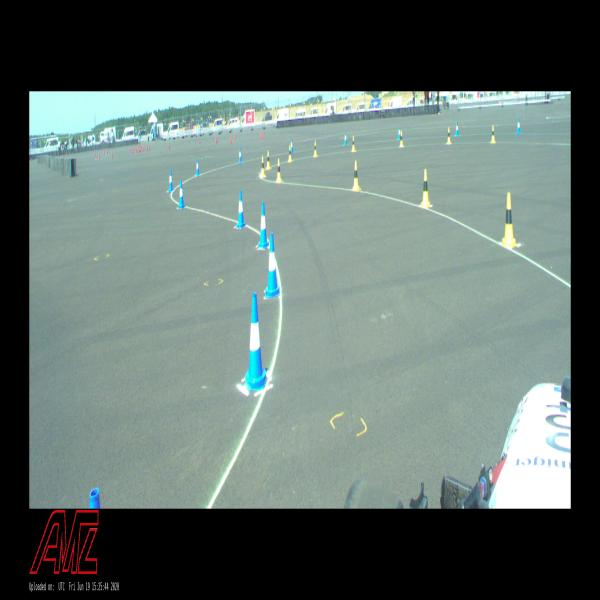blue_cone: (244, 292, 267, 390), (266, 233, 279, 297), (258, 202, 268, 248), (237, 190, 245, 228), (178, 180, 185, 208), (168, 170, 173, 192), (195, 158, 200, 176), (516, 118, 520, 134), (238, 148, 242, 163), (455, 122, 459, 136), (344, 132, 347, 145), (291, 139, 293, 153), (398, 126, 400, 140)
unknown_cone: (138, 144, 140, 152), (168, 142, 170, 150), (234, 133, 236, 140), (146, 144, 148, 150), (100, 148, 102, 152), (216, 138, 218, 142), (231, 136, 232, 144), (262, 132, 263, 140), (107, 149, 108, 156), (143, 145, 144, 152), (230, 135, 231, 142), (199, 138, 200, 144), (112, 152, 113, 158), (62, 154, 64, 157), (99, 153, 100, 159), (132, 148, 133, 154), (136, 146, 137, 152), (137, 146, 138, 152), (141, 144, 142, 150), (149, 144, 150, 150), (215, 138, 216, 144), (260, 132, 261, 138), (94, 150, 95, 155), (130, 148, 131, 153), (131, 144, 132, 149), (140, 147, 141, 152), (66, 152, 67, 156), (96, 154, 97, 158), (104, 150, 104, 155)
yellow_cone: (502, 193, 516, 246), (421, 169, 430, 207), (352, 160, 360, 190), (276, 159, 282, 182), (260, 156, 266, 177), (266, 150, 270, 169), (491, 125, 495, 143), (288, 145, 292, 162), (447, 128, 451, 144), (400, 131, 404, 147), (314, 141, 318, 156), (352, 136, 355, 151)
